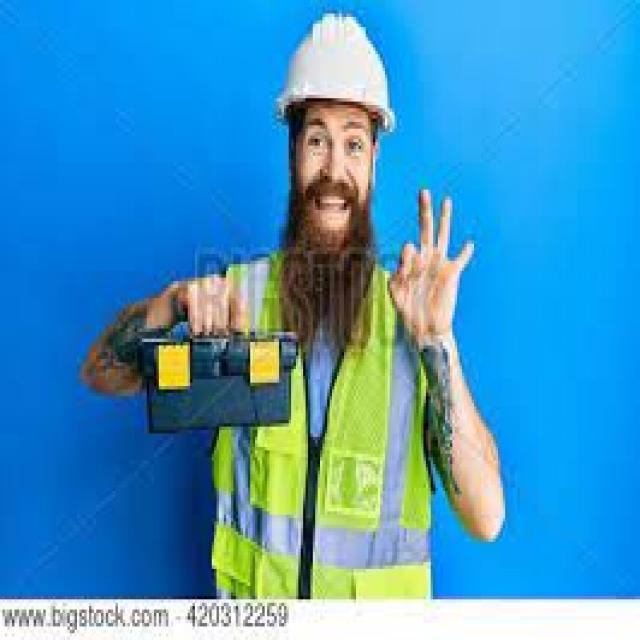Reflective-Jacket: (202, 248, 440, 600)
Safety-Helmet: (274, 10, 395, 132)
